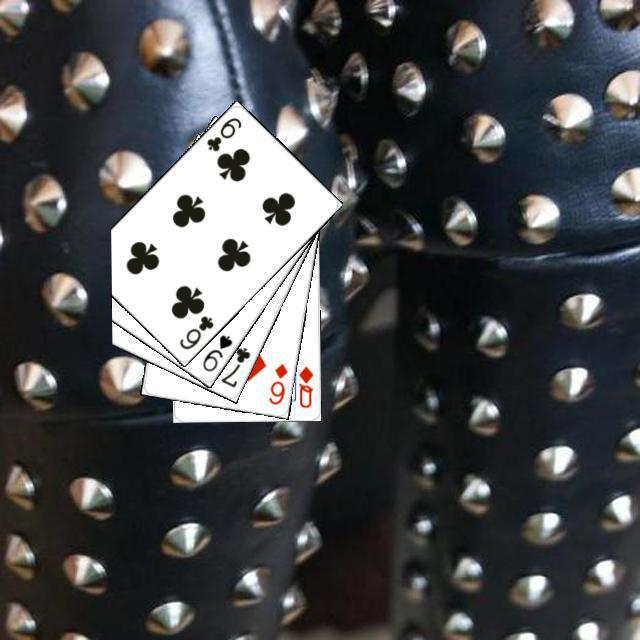6c: (202, 112, 243, 153), (174, 311, 215, 351)
6d: (264, 358, 289, 406)
7c: (216, 342, 252, 389)
9s: (197, 330, 234, 373)
Qd: (293, 361, 315, 409)
